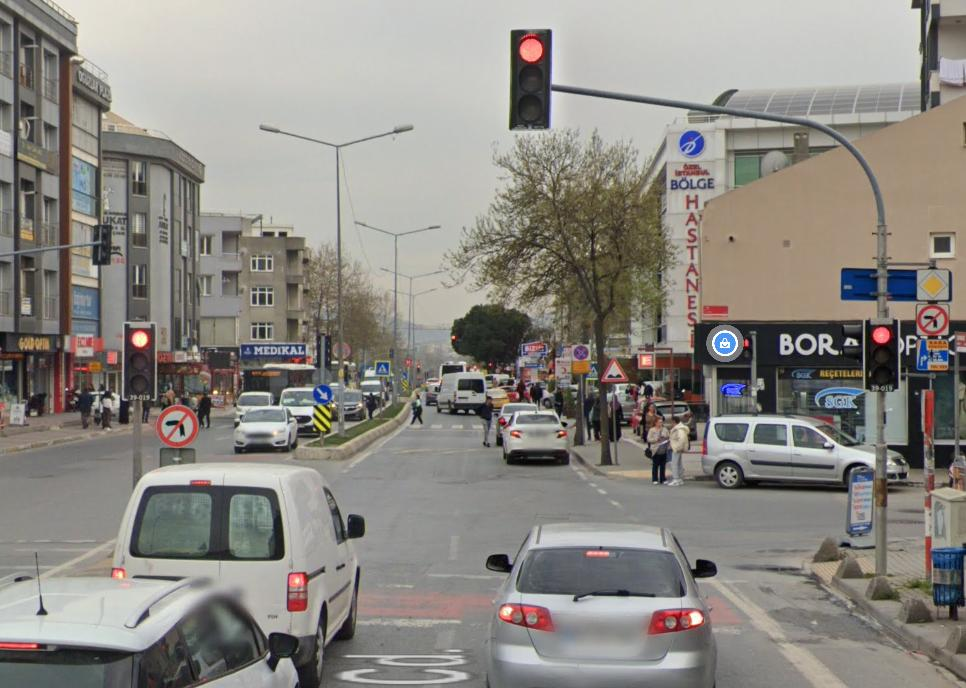leftturnsareforbidden: (156, 406, 197, 446), (917, 303, 948, 334)
redlight: (512, 29, 547, 121), (123, 322, 155, 395), (865, 321, 899, 383)
